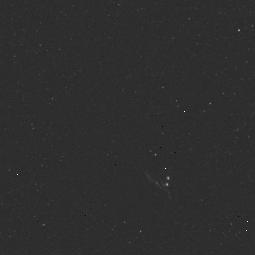earth_observation_sat_1: (90, 161, 188, 214)
